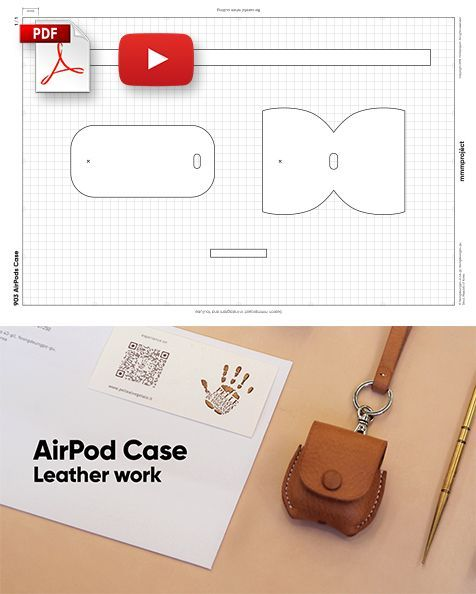cuero: (279, 326, 411, 538)
